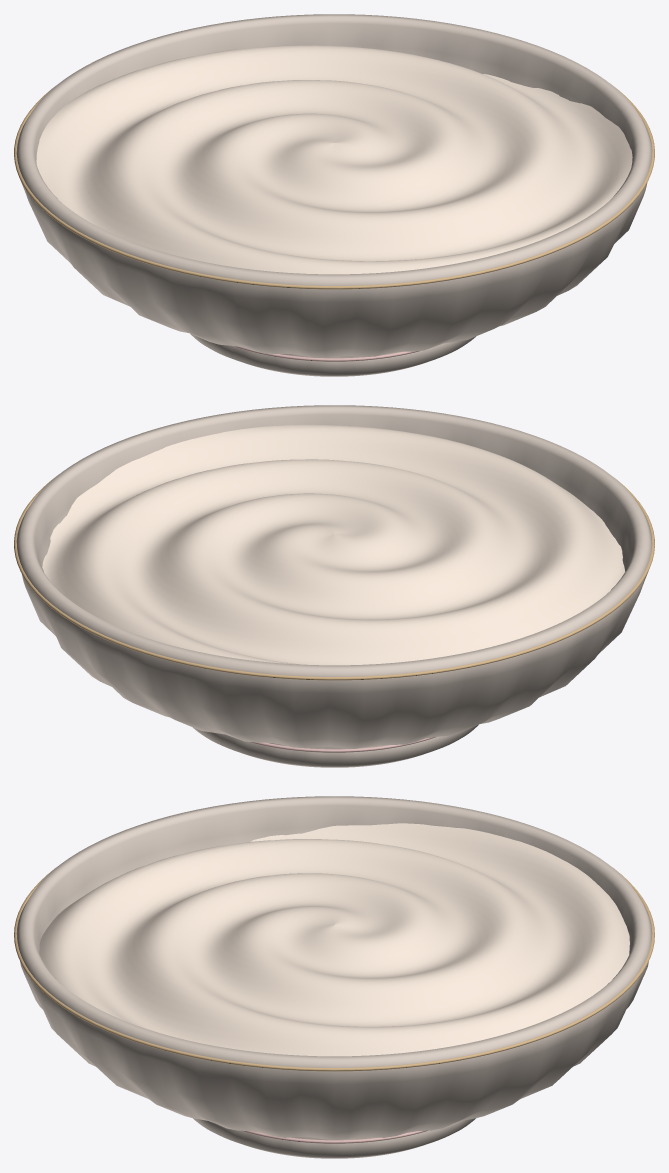
Rendered from mixing-bowl.glb.
The picture shows the model from 3 angles, top to bottom: view 1: azimuth 30°, elevation 25°; view 2: azimuth 150°, elevation 25°; view 3: azimuth 270°, elevation 25°; orthographic projection.
Parts seen in each view (by area): view 1: whipped cream, scalloped porcelain, gilt trim, rose rim trim.001; view 2: whipped cream, scalloped porcelain, gilt trim, rose rim trim.001; view 3: whipped cream, scalloped porcelain, gilt trim, rose rim trim.001.
Boxes of the visible parts, x1,y1,x2,y2 form: whipped cream: [36, 45, 632, 274]; scalloped porcelain: [16, 14, 652, 376]; gilt trim: [14, 83, 654, 289]; rose rim trim.001: [233, 346, 419, 361]; whipped cream: [42, 424, 625, 665]; scalloped porcelain: [16, 405, 652, 767]; gilt trim: [14, 474, 654, 680]; rose rim trim.001: [249, 737, 435, 752]; whipped cream: [39, 823, 629, 1056]; scalloped porcelain: [16, 796, 652, 1158]; gilt trim: [14, 867, 654, 1071]; rose rim trim.001: [241, 1130, 427, 1143].
Size of the model in its own units: 1.85 by 0.555 by 1.85.
